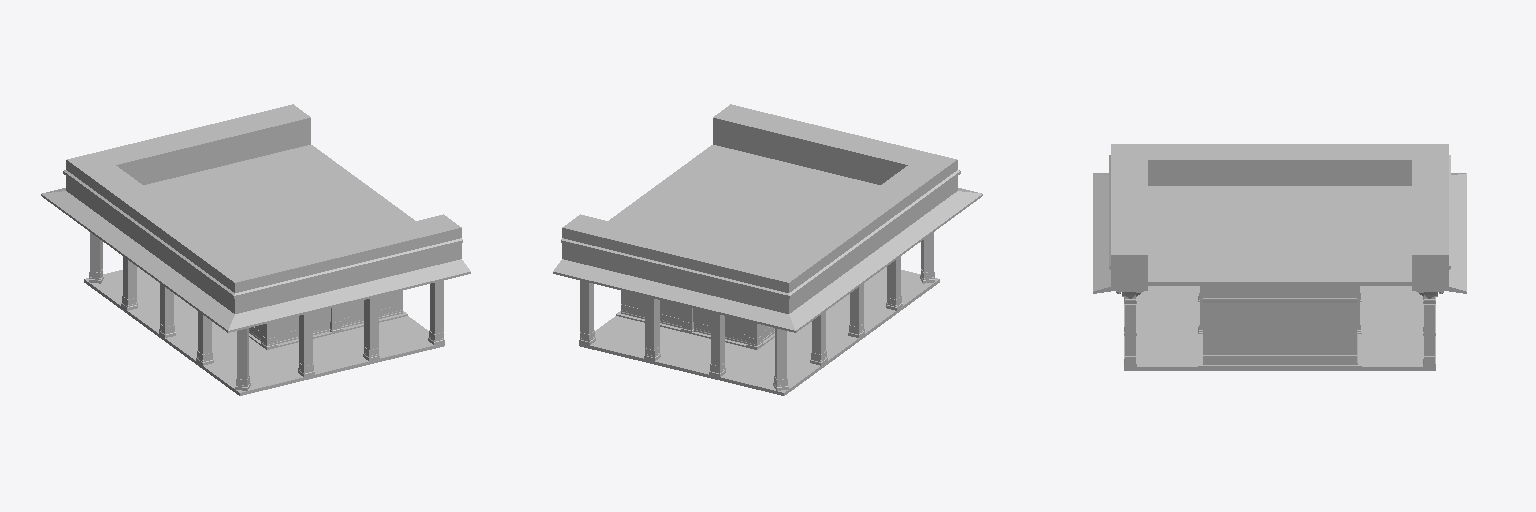
File: Construcao_01_2.obj
The picture shows the model from 3 angles: view 1: azimuth 30°, elevation 25°; view 2: azimuth 150°, elevation 25°; view 3: azimuth 270°, elevation 25°; orthographic projection.
Visible parts, largest first — view 1: Estrutura1, Pilares1 polySurface7, polySurface9 Pilares1, Pilares1 polySurface8, Pilares1 polySurface10, Pilares1 polySurface14, Pilares1 polySurface11, Pilares1 polySurface12, Pilares1 polySurface13; view 2: Estrutura1, Pilares1 polySurface17, Pilares1 polySurface16, Pilares1 polySurface15, Pilares1 polySurface13, Pilares1 polySurface12, Pilares1 polySurface11, Pilares1 polySurface14, Pilares1 polySurface10; view 3: Estrutura1, Pilares1 polySurface8, Pilares1 polySurface16.
Part boxes in pixels (x1,y1,x2,y2): Estrutura1: (41, 104, 470, 395); Pilares1 polySurface7: (363, 296, 379, 360); polySurface9 Pilares1: (298, 312, 314, 376); Pilares1 polySurface8: (428, 281, 444, 344); Pilares1 polySurface10: (235, 328, 250, 390); Pilares1 polySurface14: (196, 311, 213, 365); Pilares1 polySurface11: (159, 284, 175, 337); Pilares1 polySurface12: (121, 256, 137, 310); Pilares1 polySurface13: (89, 232, 103, 283); Estrutura1: (553, 104, 982, 395); Pilares1 polySurface17: (644, 296, 660, 360); Pilares1 polySurface16: (579, 281, 595, 344); Pilares1 polySurface15: (709, 312, 725, 376); Pilares1 polySurface13: (773, 328, 788, 390); Pilares1 polySurface12: (810, 311, 827, 365); Pilares1 polySurface11: (848, 284, 864, 337); Pilares1 polySurface14: (886, 256, 902, 310); Pilares1 polySurface10: (920, 232, 934, 283); Estrutura1: (1093, 144, 1466, 370); Pilares1 polySurface8: (1116, 291, 1143, 366); Pilares1 polySurface16: (1416, 291, 1443, 366).
Size of the model in its own units: 44.77 by 21.24 by 59.77.